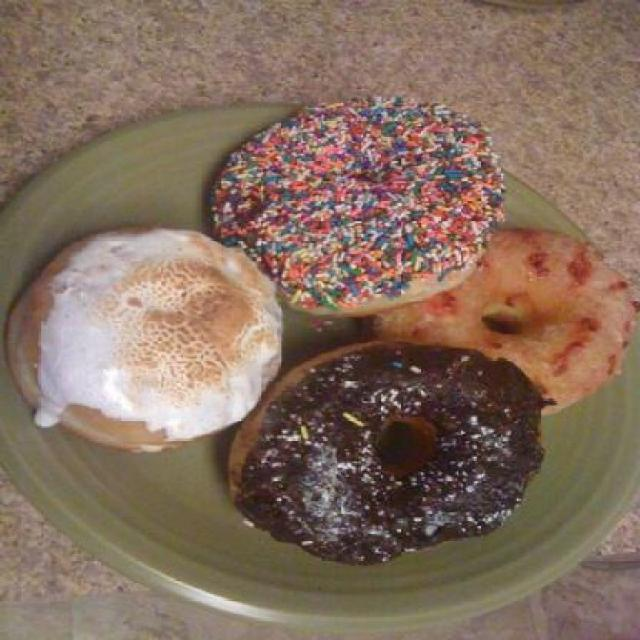Donuts: (5, 95, 630, 600)
